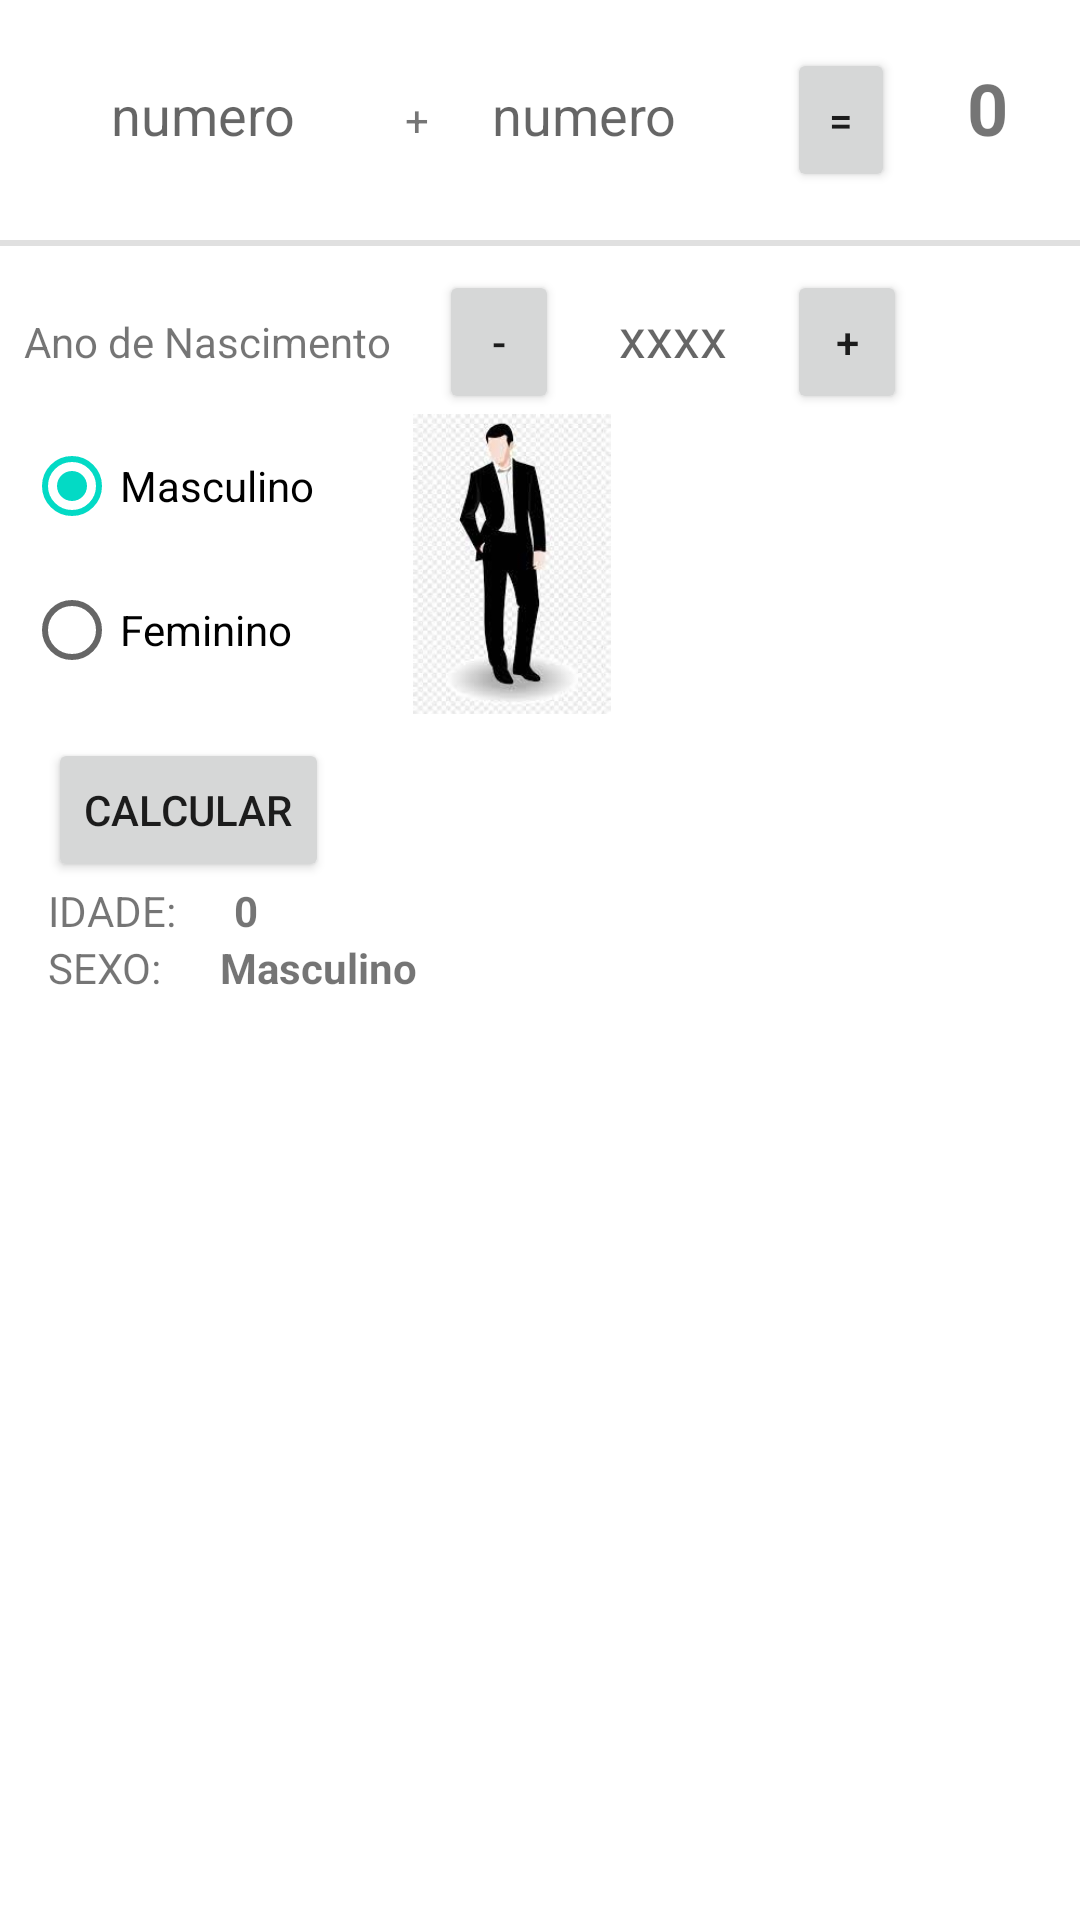

Icons on this 1080px x 1920px Android screen, each with the point to tap as (x,y):
man: (512,564)
